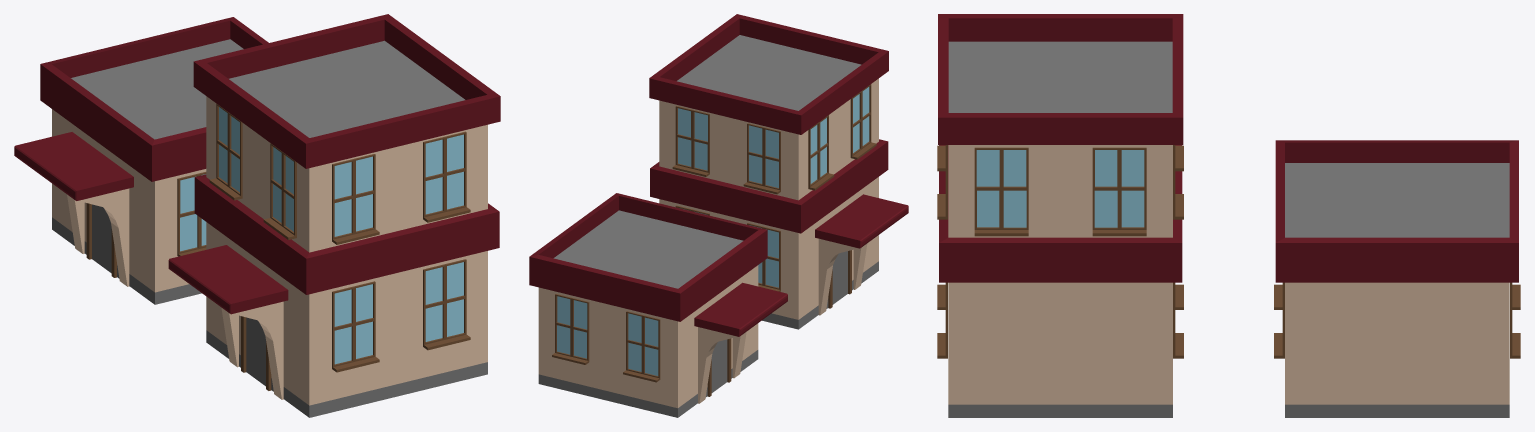
File: builds_destroyable_new.fbx
3 views of the same model, side by side, from view 1: azimuth 30°, elevation 25°; view 2: azimuth 150°, elevation 25°; view 3: azimuth 270°, elevation 25° (orthographic). The views are drawn at different scales.
Visible parts, largest first — view 1: HOUSE_BOX1, HOUSE_BOX2, HOUSE_FULL1, house 1_cell.010, house 1_cell.008, house 2_cell.025, house 1_cell.016, house 1_cell.004, house 1_cell.017, house 1_cell.002, house_2_2_cell.006, house_!_1_cell.008 (+36 smaller); view 2: HOUSE_BOX1, HOUSE_BOX2, HOUSE_FULL1, HOUSE_FULL2, house 2_cell.025, house_2_2_cell.006, house 2_cell.024, house 2_cell.013, house 1_cell.022, house 1_cell.001, house 2_cell.023, house 2_cell.017 (+19 smaller); view 3: HOUSE_BOX1, HOUSE_BOX2, house 1_cell.025, house 1_cell.013, house 1_cell.017, HOUSE_FULL1, house 2_cell.019, house 2_cell.007, house 2_cell.011, house 1_cell.014, house 2_cell.025, house 2_cell.024 (+21 smaller).
Part boxes in pixels (x1=…): HOUSE_BOX1: x1=194, y1=20, x2=500, y2=417; HOUSE_BOX2: x1=40, y1=21, x2=262, y2=298; HOUSE_FULL1: x1=169, y1=104, x2=470, y2=399; house 1_cell.010: x1=252, y1=193, x2=399, y2=276; house 1_cell.008: x1=271, y1=327, x2=398, y2=417; house 2_cell.025: x1=40, y1=52, x2=191, y2=131; house 1_cell.016: x1=198, y1=38, x2=321, y2=138; house 1_cell.004: x1=291, y1=25, x2=415, y2=81; house 1_cell.017: x1=398, y1=311, x2=487, y2=395; house 1_cell.002: x1=394, y1=165, x2=499, y2=253; house_2_2_cell.006: x1=14, y1=132, x2=133, y2=253; house_!_1_cell.008: x1=168, y1=250, x2=288, y2=314; HOUSE_BOX1: x1=649, y1=14, x2=888, y2=328; HOUSE_BOX2: x1=529, y1=193, x2=767, y2=416; HOUSE_FULL1: x1=672, y1=85, x2=908, y2=315; HOUSE_FULL2: x1=552, y1=291, x2=787, y2=403; house 2_cell.025: x1=605, y1=257, x2=723, y2=312; house_2_2_cell.006: x1=696, y1=282, x2=787, y2=402; house 2_cell.024: x1=529, y1=233, x2=648, y2=295; house 2_cell.013: x1=605, y1=283, x2=723, y2=363; house 1_cell.022: x1=762, y1=261, x2=828, y2=329; house 1_cell.001: x1=718, y1=27, x2=808, y2=66; house 2_cell.023: x1=538, y1=330, x2=608, y2=395; house 2_cell.017: x1=610, y1=349, x2=707, y2=411; HOUSE_BOX1: x1=938, y1=14, x2=1183, y2=417; HOUSE_BOX2: x1=1275, y1=140, x2=1518, y2=417; house 1_cell.025: x1=1065, y1=263, x2=1182, y2=417; house 1_cell.013: x1=948, y1=262, x2=1065, y2=348; house 1_cell.017: x1=948, y1=349, x2=1115, y2=417; HOUSE_FULL1: x1=937, y1=145, x2=1183, y2=356; house 2_cell.019: x1=1397, y1=273, x2=1509, y2=341; house 2_cell.007: x1=1285, y1=273, x2=1397, y2=341; house 2_cell.011: x1=1285, y1=342, x2=1397, y2=411; house 1_cell.014: x1=1060, y1=189, x2=1182, y2=282; house 2_cell.025: x1=1397, y1=153, x2=1509, y2=210; house 2_cell.024: x1=1397, y1=210, x2=1518, y2=272.
Bounding box in the file's own units: 553 × 599 × 1039.
